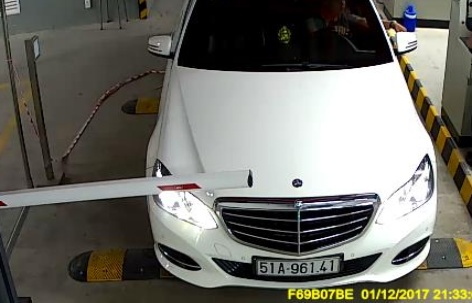plate: (253, 254, 345, 278)
